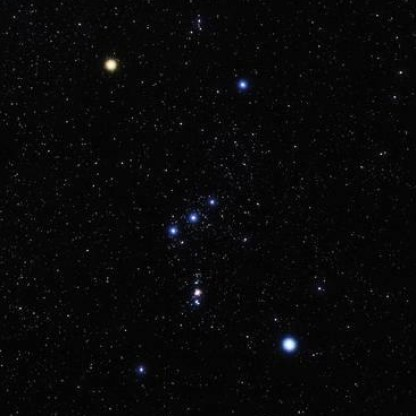Orion: (274, 326, 306, 358), (182, 203, 204, 237), (101, 50, 124, 81), (159, 215, 180, 248), (204, 186, 224, 218), (231, 77, 257, 99), (126, 358, 149, 377)
